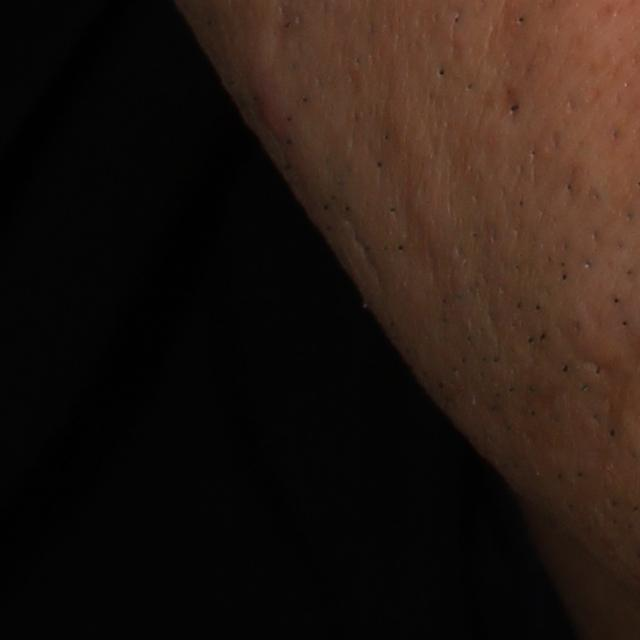papule: (251, 69, 296, 146)
